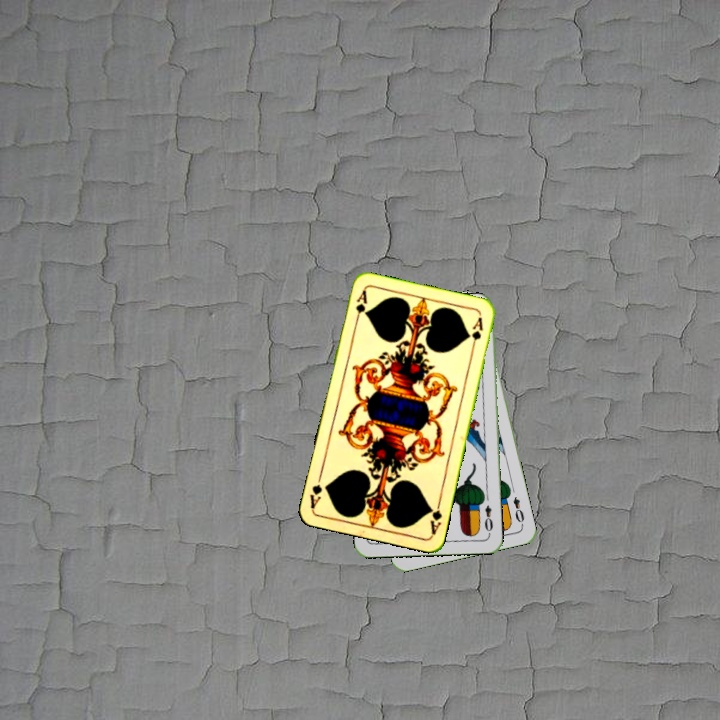EO: (509, 493, 527, 528), (481, 501, 495, 537)
GA: (426, 496, 445, 537), (351, 286, 370, 326)
